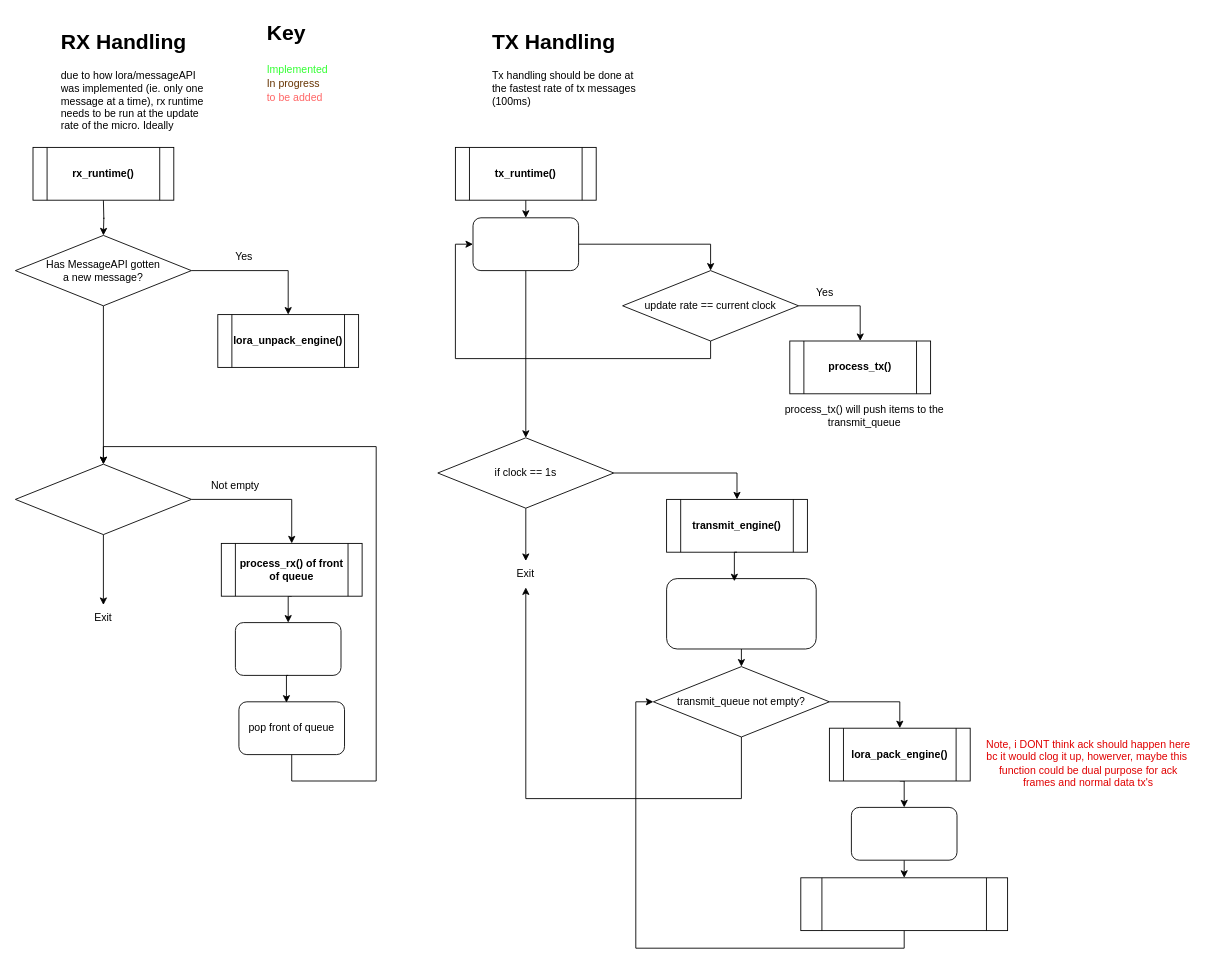
Some shapes in this 1209 by 971 pixel diagram are drawn without their labels. Here are the shapes that lost their labels. From the top down, the centre of each, then its label:
(x=525, y=244): for-each item in mailbox
(x=103, y=499): while p_rx_queue is not empty
(x=741, y=613): Loop through p_ack_queue and if an ack has not been handled assert
(x=288, y=648): ack message and/or confirm ack
(x=904, y=833): Build frame based upon index
(x=904, y=904): messageAPI.send_message()
